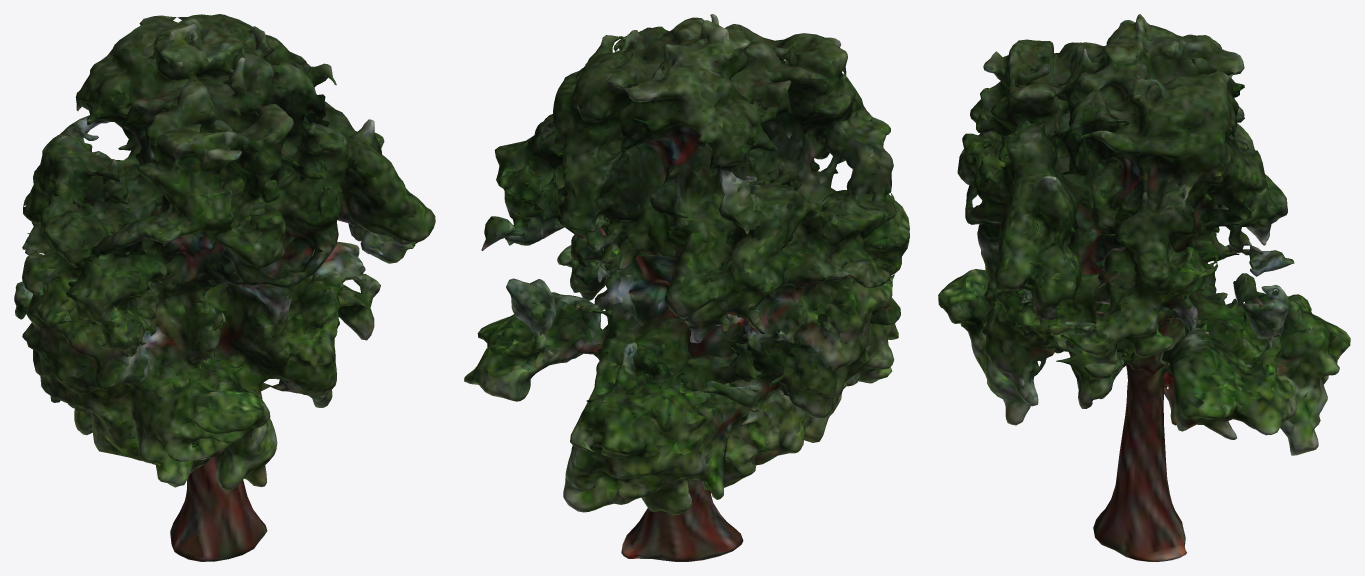
Rendered from a tree, game asset, 4k (1).glb.
The picture shows the model from 3 angles, left to right: view 1: azimuth 30°, elevation 25°; view 2: azimuth 150°, elevation 25°; view 3: azimuth 270°, elevation 25°; orthographic projection. The views are drawn at different scales.
Visible parts, largest first — view 1: model; view 2: model; view 3: model.
Part boxes in pixels (<box>): model: <box>14,14,435,561</box>; model: <box>464,14,909,561</box>; model: <box>938,14,1350,561</box>.
Size of the model in its own units: 1.35 by 1.83 by 1.35.
1 material, 1 textured.
